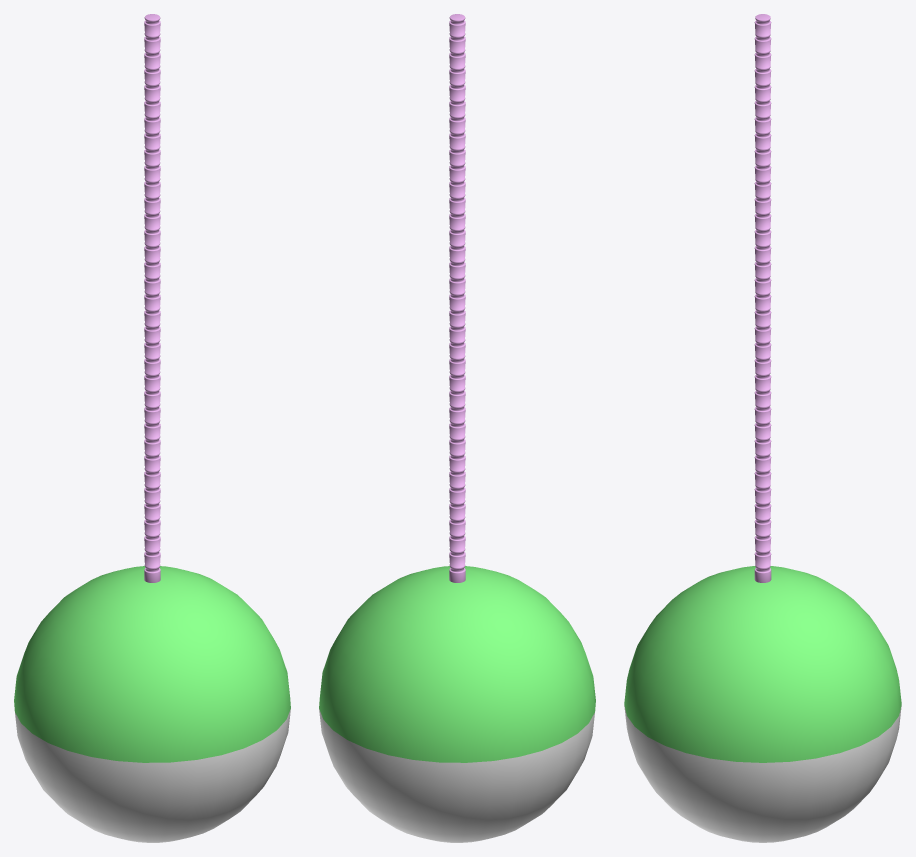
File: green-trap-circle.glb
3 renders of one model, left to right at view 1: azimuth 30°, elevation 25°; view 2: azimuth 150°, elevation 25°; view 3: azimuth 270°, elevation 25°, orthographic.
Visible parts, largest first — view 1: Trap_circle_green.001; view 2: Trap_circle_green.001; view 3: Trap_circle_green.001.
Boxes of the visible parts, box(x1,y1,x2,y2) form: Trap_circle_green.001: box(14, 14, 290, 842); Trap_circle_green.001: box(319, 14, 595, 842); Trap_circle_green.001: box(624, 14, 901, 842).
Size of the model in its own units: 1.71 by 5.52 by 1.71.
Materials: 1 (1 with a texture image).
